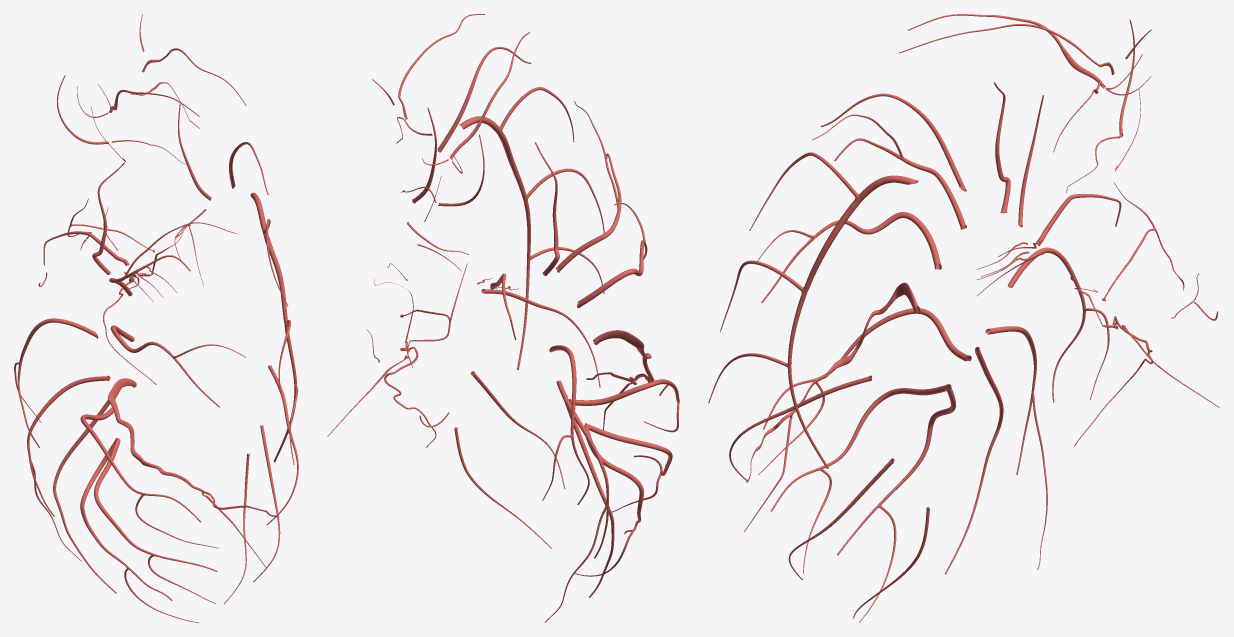
The picture shows the model from 3 angles, left to right: view 1: azimuth 30°, elevation 25°; view 2: azimuth 150°, elevation 25°; view 3: azimuth 270°, elevation 25°; orthographic projection. The views are drawn at different scales.
Visible parts, largest first — view 1: Central left, Callosomarginal left, Posterior parietal left, Temporo-occipital left, Angular left, Anterior parietal left, Posterior temporal left, Middle temporal left, Precentral left, Paracentral left, Precuneal left, MCA orbitofrontal left; view 2: Callosomarginal left, Central left, Temporo-occipital left, Anterior parietal left, Posterior temporal left, Posterior parietal left, Middle temporal left, Prefrontal left, Precentral left, ACA frontopolar left, Angular left, Paracentral left (+1 smaller); view 3: Callosomarginal left, Central left, Precentral left, Anterior parietal left, Posterior parietal left, Temporo-occipital left, Angular left, Middle temporal left, ACA frontopolar left, Prefrontal left, Paracentral left, Supraorbital left (+1 smaller).
Boxes of the visible parts, left/top/right/bottom form: Central left: left=107, top=378, right=278, bottom=517; Callosomarginal left: left=250, top=192, right=296, bottom=462; Posterior parietal left: left=94, top=438, right=217, bottom=571; Temporo-occipital left: left=53, top=400, right=116, bottom=593; Angular left: left=80, top=438, right=172, bottom=600; Anterior parietal left: left=80, top=407, right=200, bottom=522; Posterior temporal left: left=27, top=375, right=110, bottom=516; Middle temporal left: left=17, top=318, right=98, bottom=447; Precentral left: left=110, top=325, right=219, bottom=407; Paracentral left: left=266, top=365, right=298, bottom=524; Precuneal left: left=253, top=425, right=280, bottom=582; MCA orbitofrontal left: left=92, top=162, right=124, bottom=274; Callosomarginal left: left=459, top=116, right=530, bottom=369; Central left: left=586, top=330, right=654, bottom=385; Temporo-occipital left: left=564, top=394, right=614, bottom=597; Anterior parietal left: left=569, top=379, right=679, bottom=405; Posterior temporal left: left=556, top=380, right=609, bottom=558; Posterior parietal left: left=584, top=423, right=672, bottom=475; Middle temporal left: left=549, top=345, right=589, bottom=504; Prefrontal left: left=555, top=153, right=621, bottom=272; Precentral left: left=577, top=240, right=647, bottom=307; ACA frontopolar left: left=437, top=47, right=531, bottom=152; Angular left: left=584, top=424, right=643, bottom=534; Paracentral left: left=481, top=289, right=600, bottom=387; Callosomarginal left: left=787, top=175, right=918, bottom=468; Central left: left=746, top=282, right=920, bottom=482; Precentral left: left=761, top=212, right=941, bottom=302; Anterior parietal left: left=763, top=308, right=971, bottom=429; Posterior parietal left: left=771, top=384, right=947, bottom=511; Temporo-occipital left: left=945, top=347, right=1003, bottom=574; Angular left: left=837, top=384, right=955, bottom=555; Middle temporal left: left=1007, top=247, right=1085, bottom=402; ACA frontopolar left: left=821, top=93, right=966, bottom=191; Prefrontal left: left=834, top=138, right=966, bottom=229; Paracentral left: left=729, top=375, right=871, bottom=480; Supraorbital left: left=908, top=14, right=1105, bottom=88.
Size of the model in its own units: 61.82 by 164 by 120.
